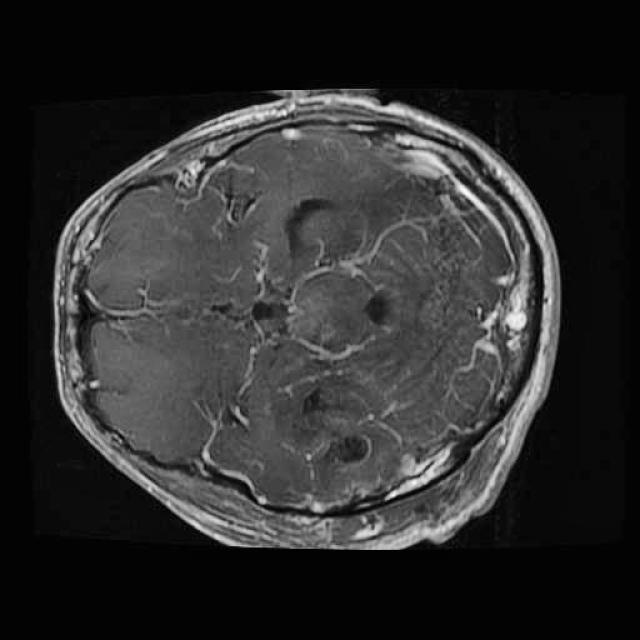Tumor: (274, 373, 388, 478)
